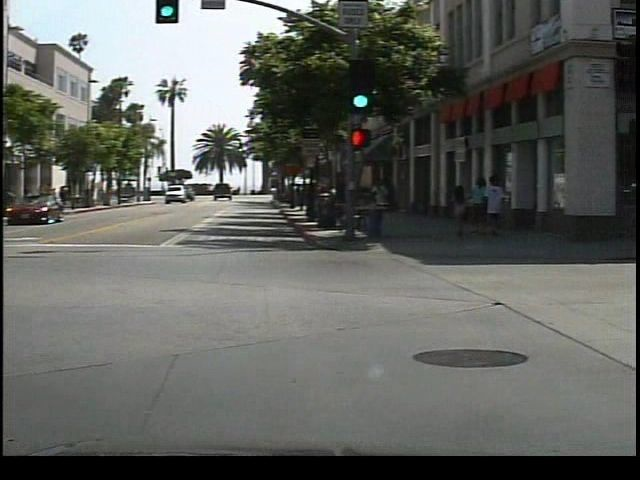person: (376, 174, 404, 229)
